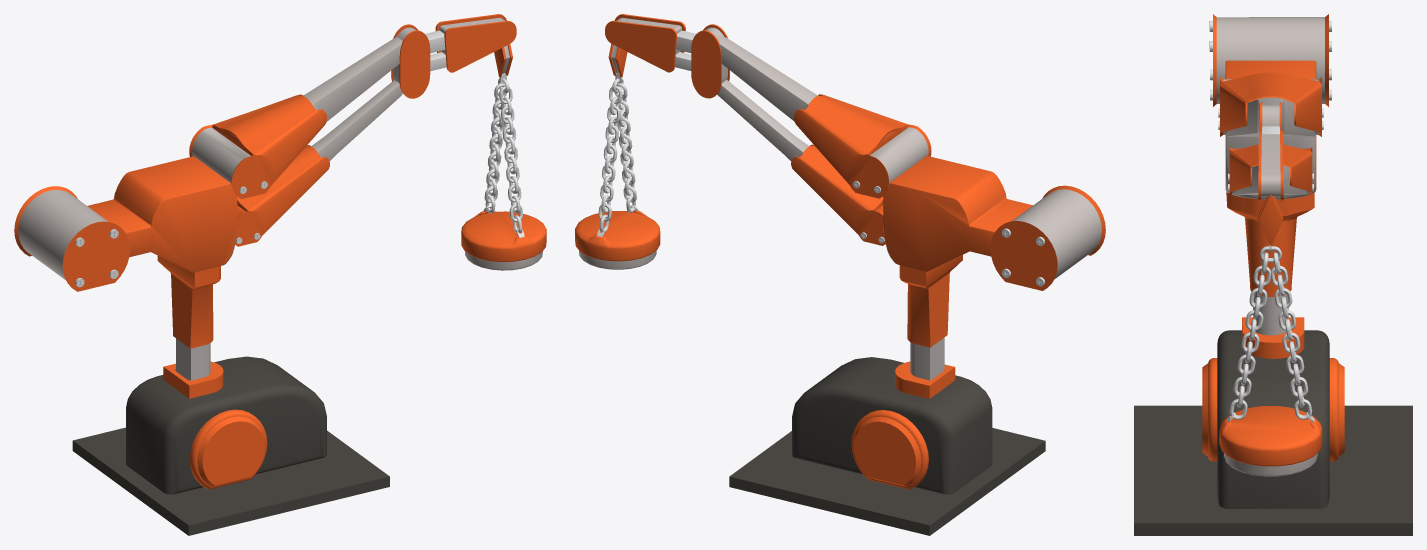
Rendered from Crane_final.fbx.
The picture shows the model from 3 angles, left to right: view 1: azimuth 30°, elevation 25°; view 2: azimuth 150°, elevation 25°; view 3: azimuth 270°, elevation 25°; orthographic projection. The views are drawn at different scales.
Parts seen in each view (by area): view 1: Base, CraneTopBack, Cylinder.016, Cylinder.017, Cylinder.018, Chain/Magnet, CraneTop, Cube.013, Plane.007, Top_controller, Cube.012, Chain_2 (+1 smaller); view 2: Base, CraneTopBack, Cylinder.016, Cylinder.017, Cylinder.018, Chain/Magnet, CraneTop, Cube.013, Plane.007, Top_controller, Cube.012, Chain_2 (+1 smaller); view 3: Base, Chain/Magnet, Cylinder.017, Cylinder.018, Cylinder.016, CraneTopBack, Chain_1, CraneTop, Chain_2, Plane.007, Cube.013, Plane.006 (+2 smaller).
Part boxes in pixels (x1,y1,x2,y2): Base: [72, 356, 389, 535]; CraneTopBack: [87, 156, 237, 272]; Cylinder.016: [189, 94, 326, 199]; Cylinder.017: [14, 186, 129, 291]; Cylinder.018: [157, 256, 220, 380]; Chain/Magnet: [461, 211, 546, 270]; CraneTop: [235, 145, 329, 246]; Cube.013: [303, 37, 402, 121]; Plane.007: [435, 14, 516, 72]; Top_controller: [391, 24, 430, 98]; Cube.012: [311, 80, 402, 160]; Chain_2: [484, 83, 522, 221]; Base: [729, 357, 1045, 535]; CraneTopBack: [883, 156, 1032, 271]; Cylinder.016: [794, 94, 931, 198]; Cylinder.017: [990, 185, 1105, 290]; Cylinder.018: [899, 255, 962, 380]; Chain/Magnet: [575, 210, 660, 269]; CraneTop: [791, 144, 885, 245]; Cube.013: [718, 36, 817, 121]; Plane.007: [605, 14, 685, 72]; Top_controller: [691, 24, 729, 98]; Cube.012: [717, 79, 809, 160]; Chain_2: [598, 83, 636, 221]; Base: [1134, 317, 1412, 535]; Chain/Magnet: [1219, 406, 1322, 476]; Cylinder.017: [1213, 14, 1328, 106]; Cylinder.018: [1226, 192, 1314, 335]; Cylinder.016: [1220, 72, 1321, 136]; CraneTopBack: [1225, 60, 1316, 199]; Chain_1: [1229, 265, 1312, 419]; CraneTop: [1229, 144, 1312, 195]; Chain_2: [1237, 252, 1304, 407]; Plane.007: [1258, 130, 1283, 200]; Cube.013: [1227, 97, 1314, 136]; Plane.006: [1258, 195, 1283, 245].
Bounding box in the file's own units: 250 × 189 × 100.
